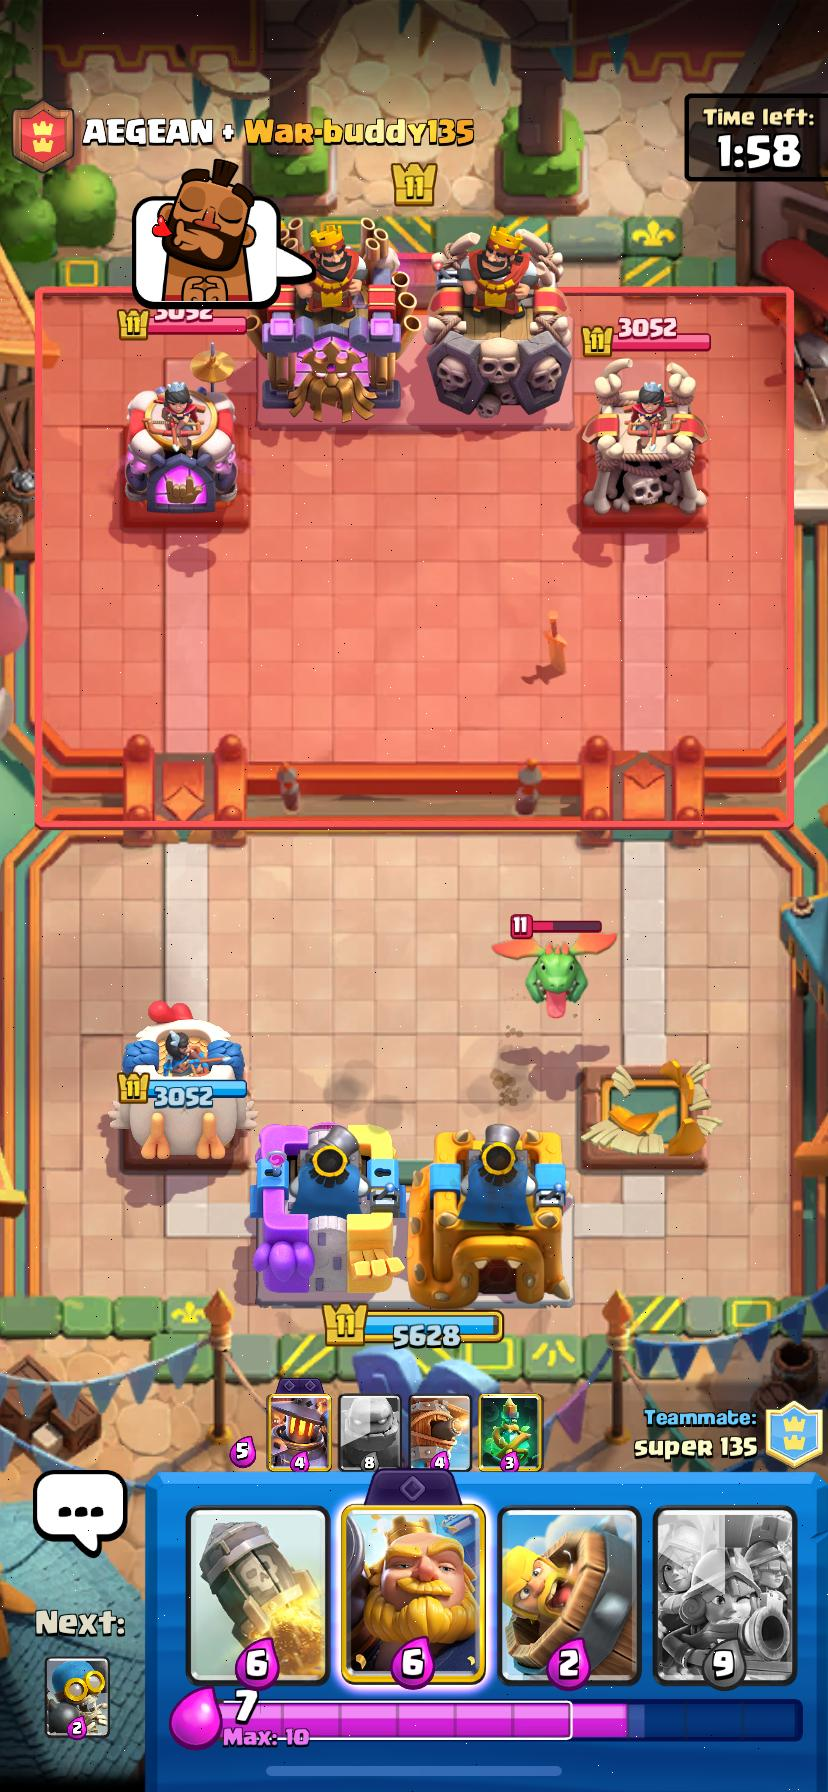EBabyDrag: (493, 919, 615, 1018)
EKingTower: (263, 219, 417, 419), (423, 226, 570, 418)
EnemyPrincessTower: (581, 359, 707, 515), (124, 382, 238, 514)
OwnKingTower: (407, 1125, 572, 1306), (252, 1123, 403, 1301)
OwnPrincessTower: (110, 1018, 254, 1159)
TowerDown: (580, 1059, 718, 1169)
